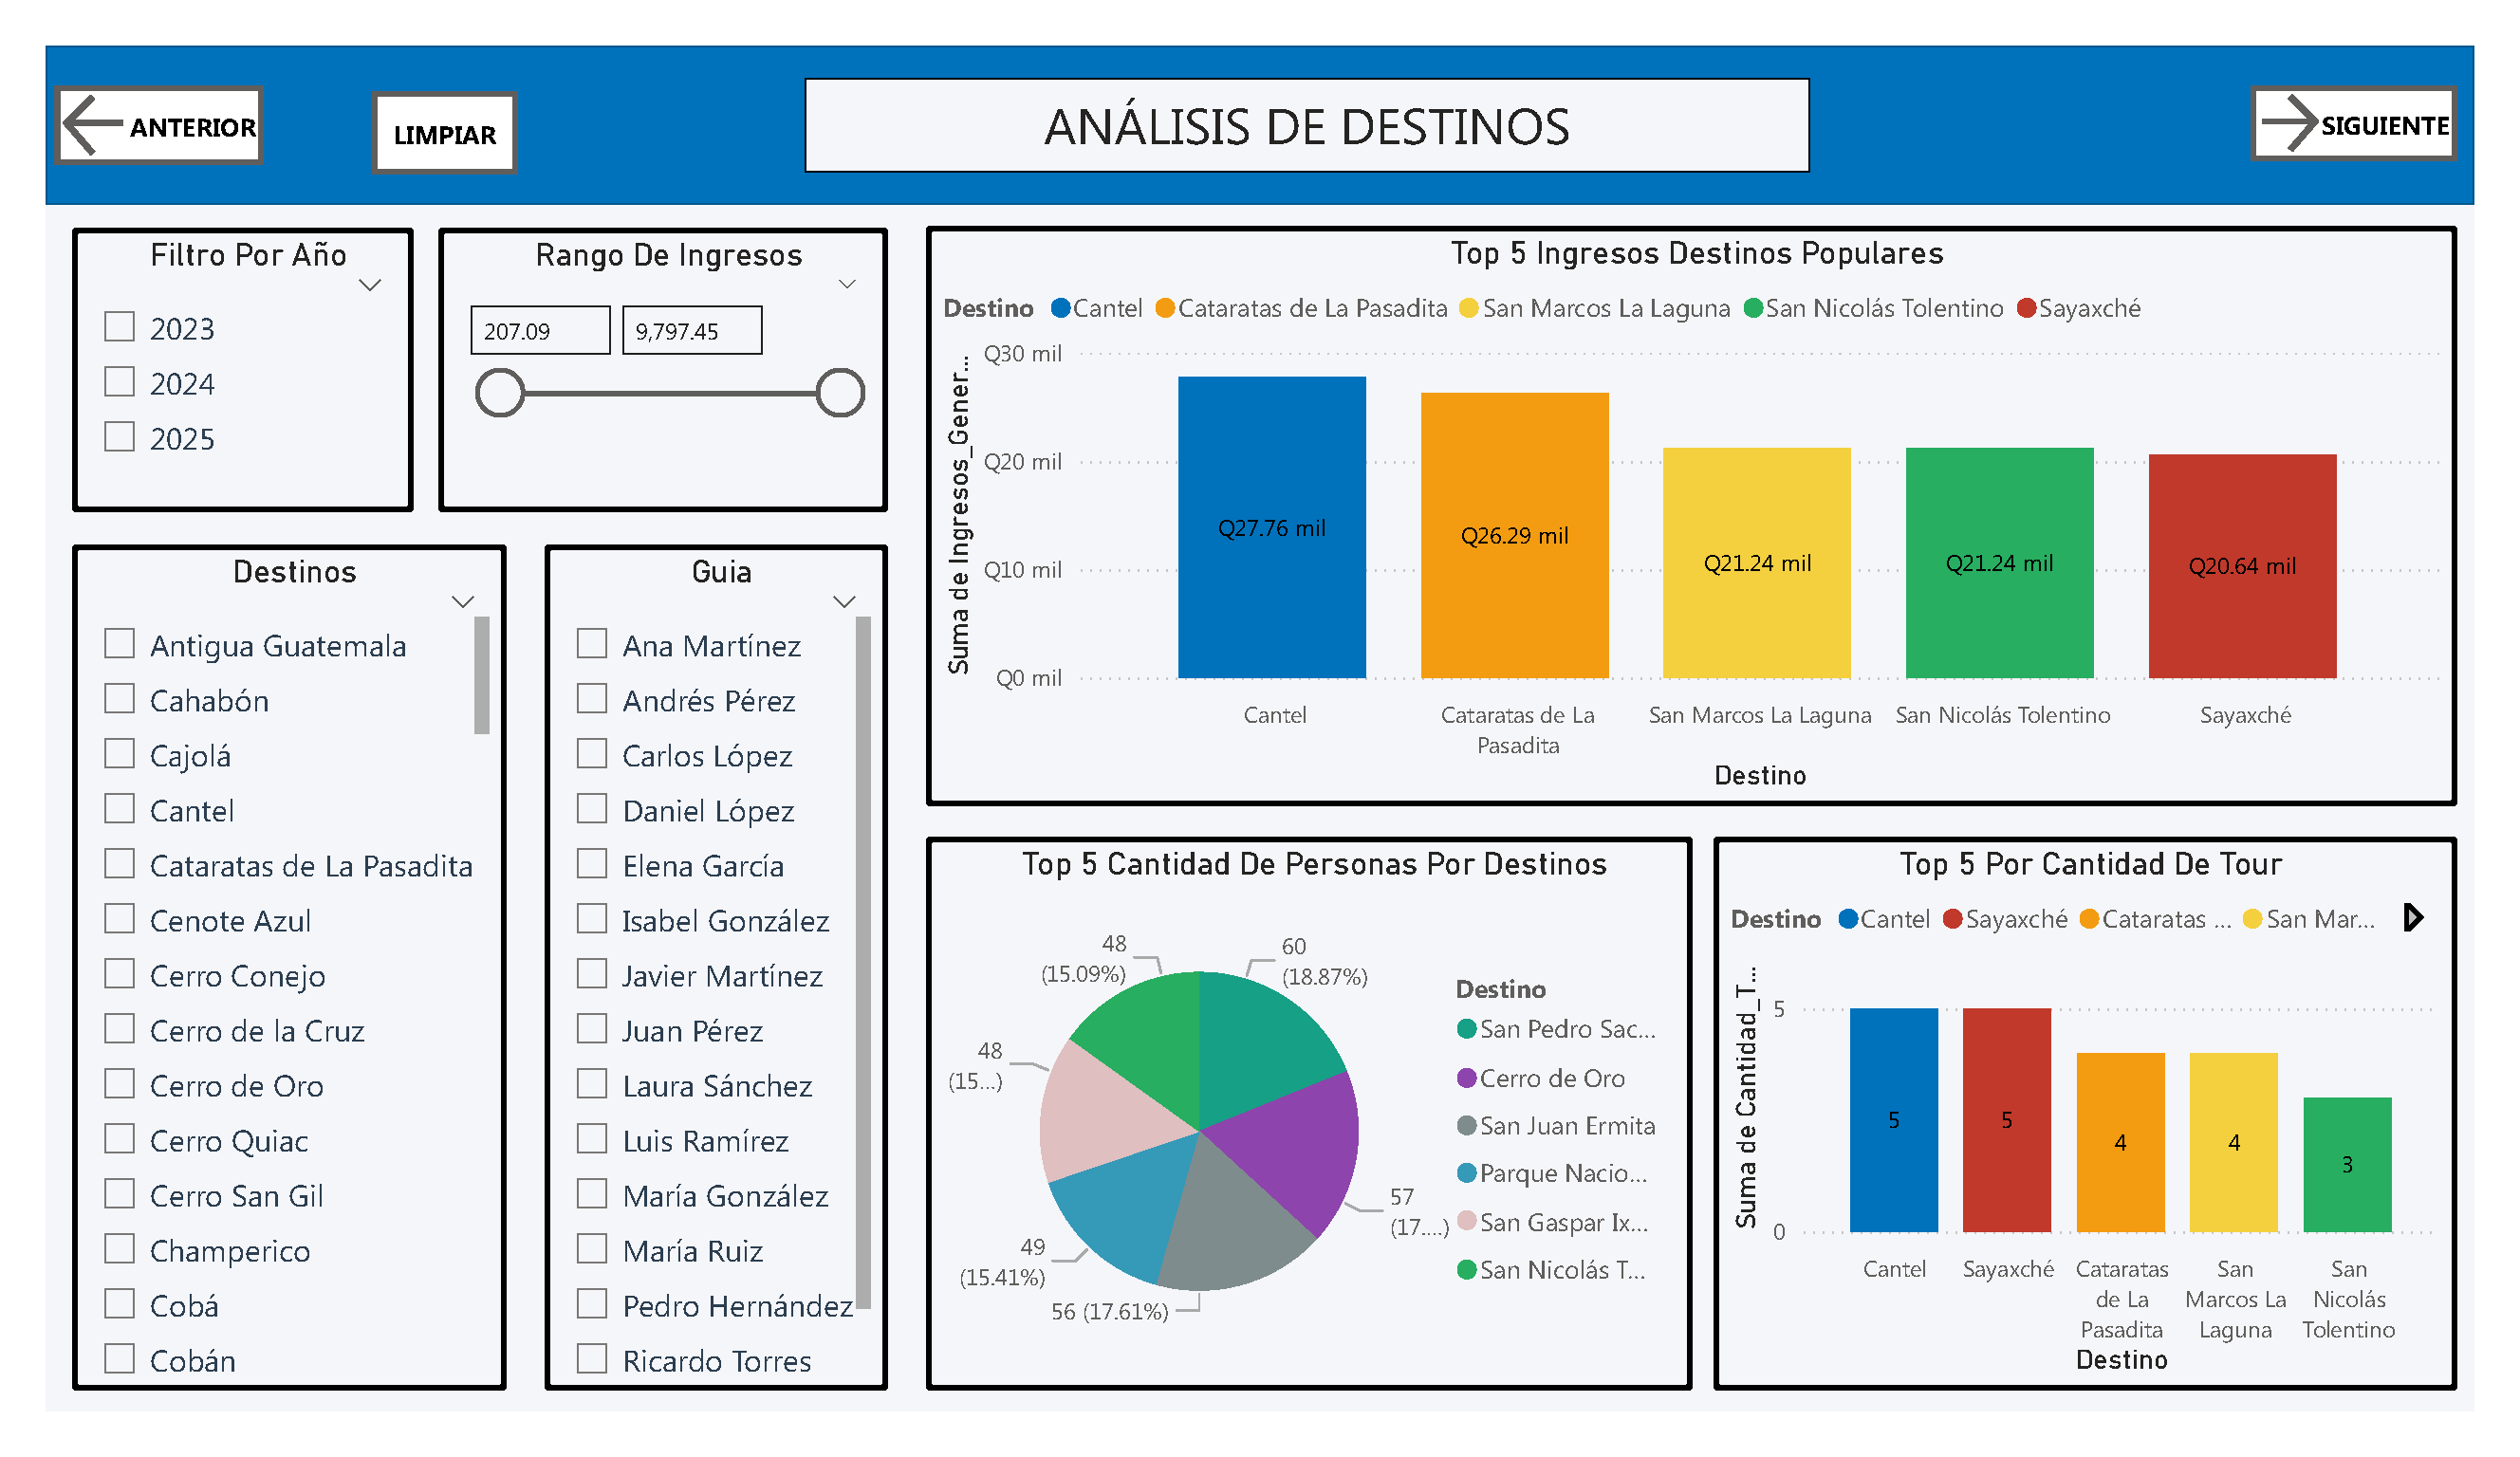

The page's visual inventory and layout, read from the dashboard file:
{"tool":"powerbi","page":{"name":"DESTINOS","canvas":[1280,720],"ordinal":5},"visuals":[{"type":"pieChart","title":"Top 5 Cantidad De Personas Por Destinos","fields":{"Category":["Consulta1.Destino"],"Y":["Sum(Consulta1.Total_Personas)"]},"box":[464,417.3,403.6,291.8],"z":0},{"type":"columnChart","title":"Top 5 Ingresos Destinos Populares","fields":{"Category":["Consulta1.Destino"],"Y":["Sum(Consulta1.Ingresos_Generados)"],"Series":["Consulta1.Destino"]},"box":[464,95.3,807.3,305.4],"z":1000},{"type":"columnChart","title":"Top 5 Por Cantidad De Tour","fields":{"Category":["destinos_populares2.Destino"],"Y":["Sum(destinos_populares2.Cantidad_Tours)"],"Series":["destinos_populares2.Destino"]},"box":[879.3,417.3,392,291.8],"z":2000},{"type":"shape","box":[0,0,1280,83.8],"z":3000},{"type":"textbox","box":[400,16.7,530,50],"z":4000},{"type":"actionButton","box":[1161.7,21.1,108.9,39.5],"z":5000},{"type":"actionButton","title":"Atras","box":[5.3,21.1,109.8,42.1],"z":6000},{"type":"slicer","title":"Destinos","fields":{"Values":["destinos_populares2.Destino"]},"box":[13.6,262.6,229.5,446.4],"z":7000},{"type":"slicer","title":"Guia","fields":{"Values":["destinos_populares2.NOMBRE"]},"box":[262.6,262.6,180.9,446.4],"z":8000},{"type":"slicer","title":"Filtro Por Año","fields":{"Values":["destinos_populares2.Año"]},"box":[13.6,96.3,179.9,149.8],"z":9000},{"type":"slicer","title":"Rango De Ingresos","fields":{"Values":["destinos_populares2.Precio_Promedio"]},"box":[207.2,96.3,236.4,149.8],"z":10000},{"type":"actionButton","box":[172.1,23.7,77.3,44.8],"z":13000}]}

Visuals, with their boxes in screenshot pixels (x1, y1, x2, y2), scaled from the page's 1280x720 canvas onto the 2520x1457 screenshot:
"Top 5 Cantidad De Personas Por Destinos" pieChart: (914, 844, 1708, 1435)
"Top 5 Ingresos Destinos Populares" columnChart: (914, 193, 2503, 811)
"Top 5 Por Cantidad De Tour" columnChart: (1732, 844, 2503, 1435)
shape: (0, 0, 2519, 170)
textbox: (787, 34, 1831, 135)
actionButton: (2288, 43, 2501, 122)
"Atras" actionButton: (10, 43, 227, 128)
"Destinos" slicer: (27, 531, 478, 1435)
"Guia" slicer: (517, 531, 873, 1435)
"Filtro Por Año" slicer: (27, 194, 381, 498)
"Rango De Ingresos" slicer: (408, 194, 873, 498)
actionButton: (339, 48, 491, 138)
